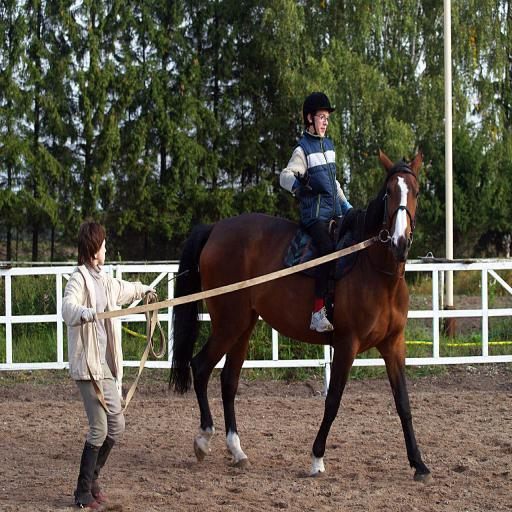horse: (166, 142, 436, 490)
